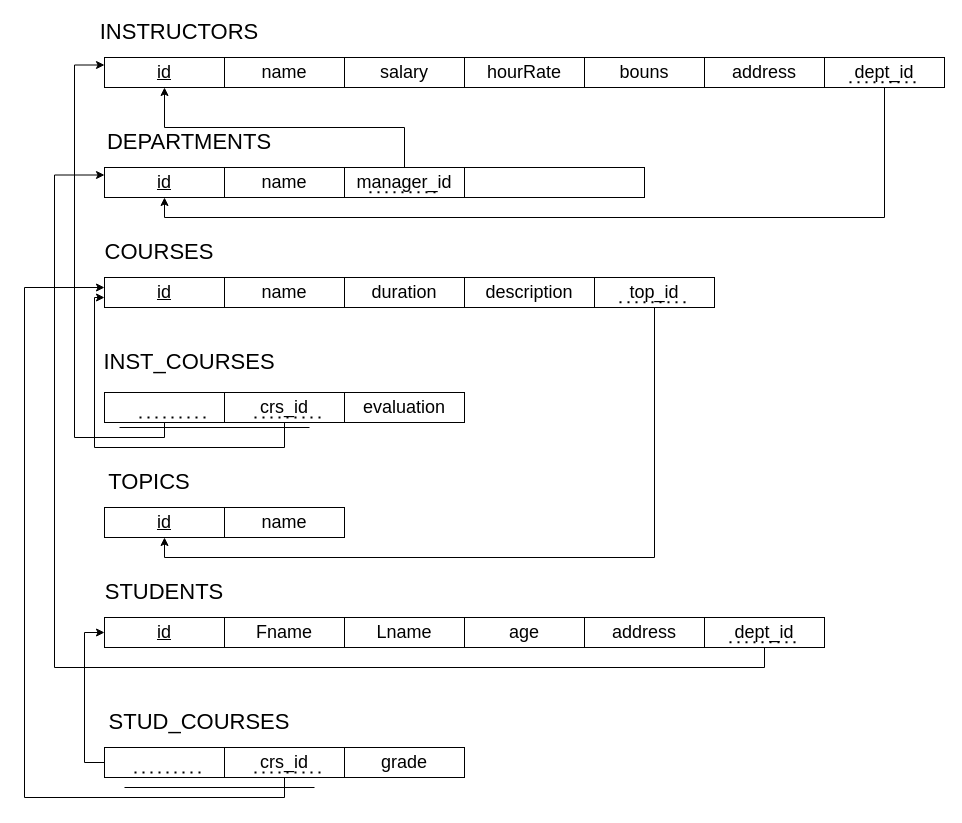
This 962x823 diagram has some shape labels left out. The shapes that lost their labels are listed below. From the top down, each one's centre as x and y in pixels, then its label:
At [554,182]: "manager_hiring Date".
At [164,407]: "ins_id".
At [164,762]: "st_id".
